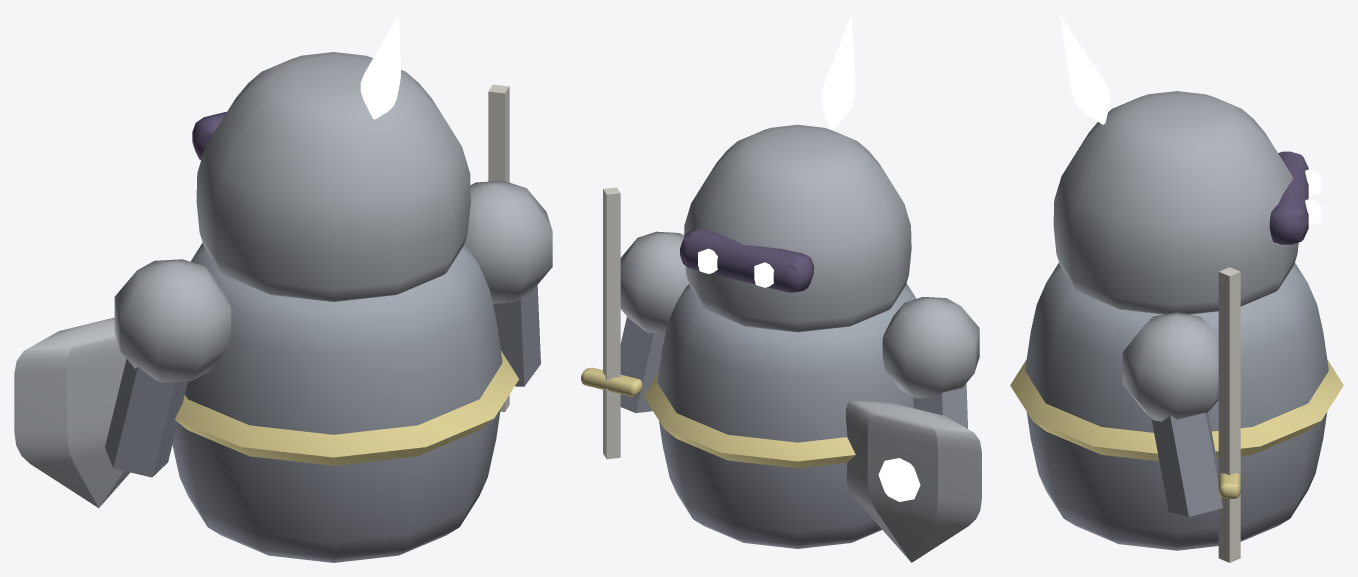
The model's file is art_e_knight.glb.
3 renders of one model, left to right at view 1: azimuth 30°, elevation 25°; view 2: azimuth 150°, elevation 25°; view 3: azimuth 270°, elevation 25°, orthographic. The views are drawn at different scales.
Visible parts, largest first — view 1: Body, Head, Limb, Prop, Glow_9BE7FF; view 2: Body, Head, Prop, Limb, Glow_9BE7FF; view 3: Body, Head, Limb, Prop, Glow_9BE7FF.
Part boxes in pixels (x1=…): Body: x1=172, y1=243, x2=518, y2=562; Head: x1=192, y1=52, x2=470, y2=301; Limb: x1=105, y1=181, x2=552, y2=477; Prop: x1=14, y1=84, x2=509, y2=507; Glow_9BE7FF: x1=222, y1=14, x2=400, y2=119; Body: x1=643, y1=283, x2=916, y2=548; Head: x1=680, y1=124, x2=911, y2=332; Prop: x1=581, y1=187, x2=981, y2=562; Limb: x1=620, y1=231, x2=979, y2=428; Glow_9BE7FF: x1=698, y1=15, x2=920, y2=501; Body: x1=1010, y1=263, x2=1343, y2=550; Head: x1=1053, y1=91, x2=1308, y2=314; Limb: x1=1122, y1=312, x2=1222, y2=516; Prop: x1=1218, y1=267, x2=1240, y2=562; Glow_9BE7FF: x1=1060, y1=15, x2=1321, y2=226.
Size of the model in its own units: 3.54 by 3.7 by 2.28.
